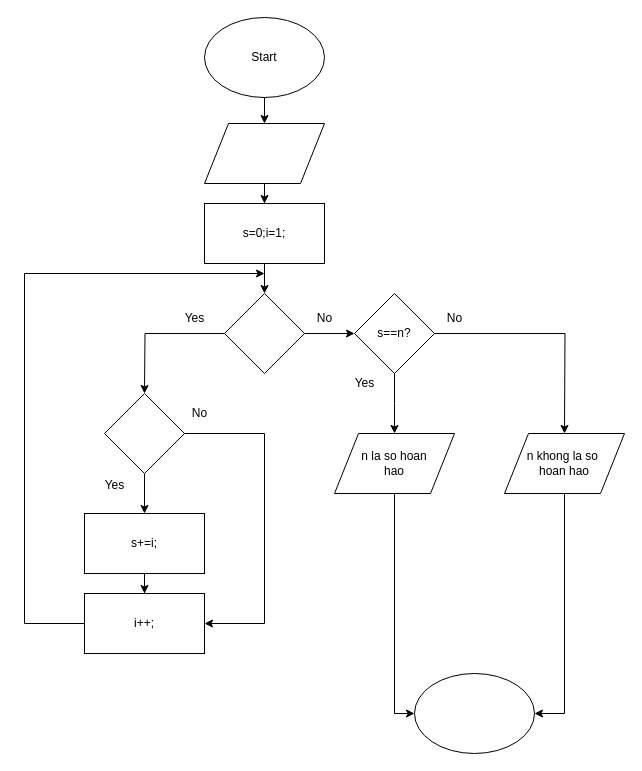
Image size: 642x771. Some labels were removed from this diagram. Here are the shapes that lost their labels. From the top down, the centre of each, then its label:
pixel 264 153: Nhap n
pixel 264 333: i<n?
pixel 144 433: n%i==0?
pixel 474 713: End
